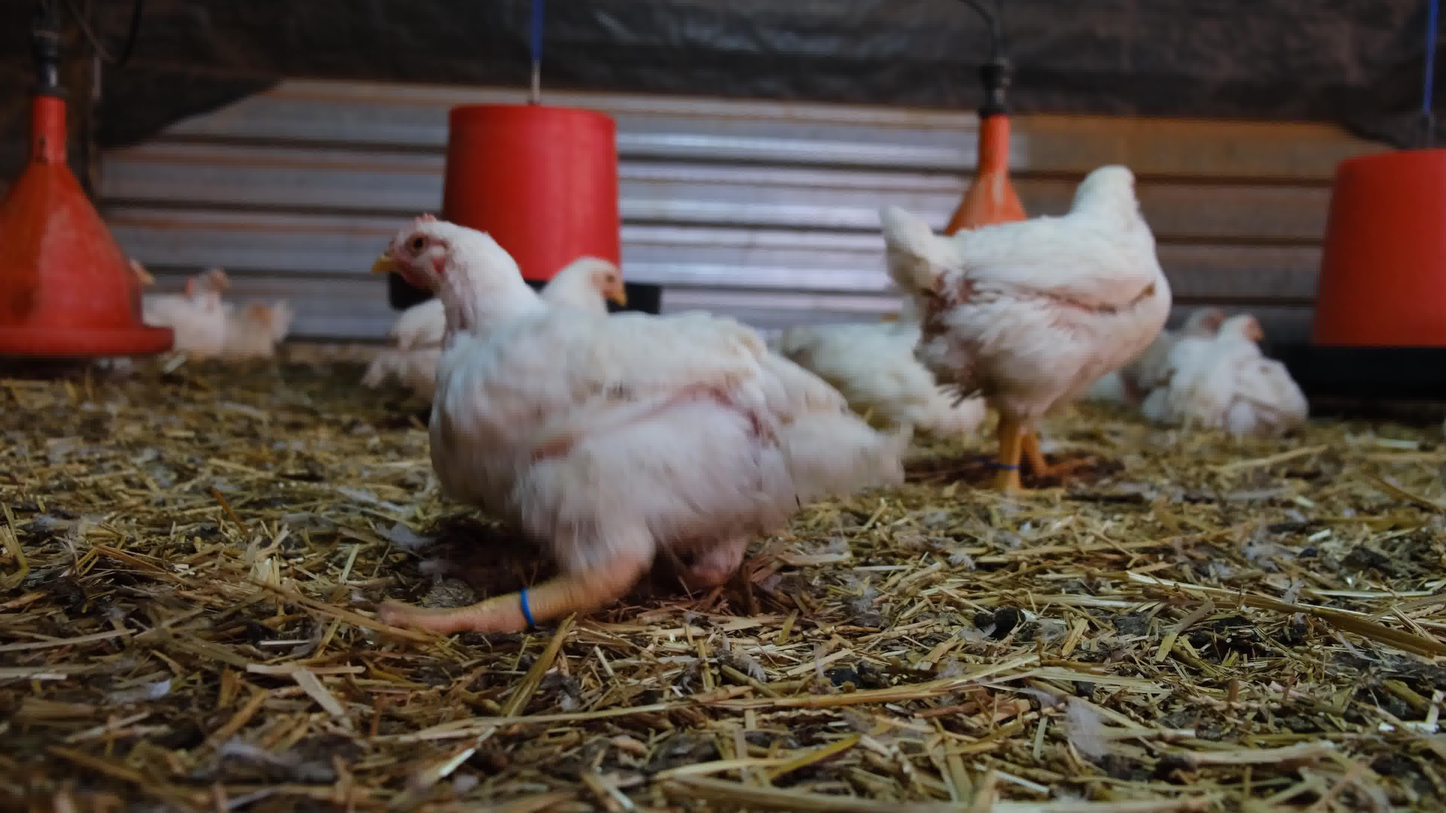AbNormal: (375, 213, 921, 612), (781, 299, 990, 435), (1184, 311, 1318, 450), (1149, 280, 1245, 408), (222, 286, 311, 361)
Normal: (915, 173, 1182, 489), (386, 254, 648, 399), (139, 262, 249, 367)
